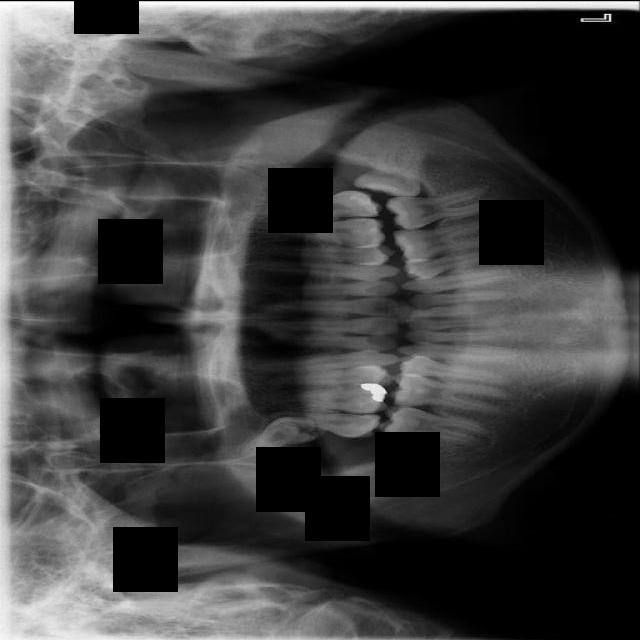3M ESPE Implant: (233, 404, 322, 468)
52: (339, 381, 389, 414), (331, 189, 383, 217)
73: (552, 60, 573, 62)
BioHorizons Implant: (249, 188, 383, 222)
Biomet 3i Implant: (352, 141, 426, 200)
Blue Sky Bio Implant: (384, 182, 499, 233)
Caries: (267, 407, 385, 439)
Implant: (377, 402, 491, 446)
